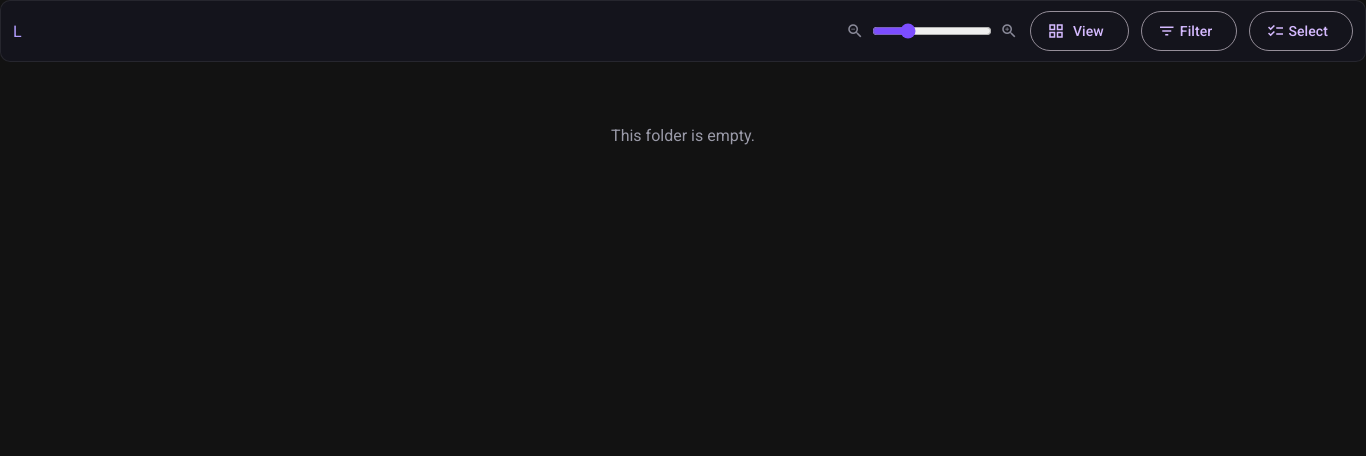
it: LibraryBrowseComponent view menu selected highlight (1.8.1) › the Filter menu highlights the active read-state option (F4 consistency)
What coordinates should you click on to do the following:
click the button with class "filter-toggle"
I would click on:
 (1189, 31)
Its box is [1141,11,1237,51].
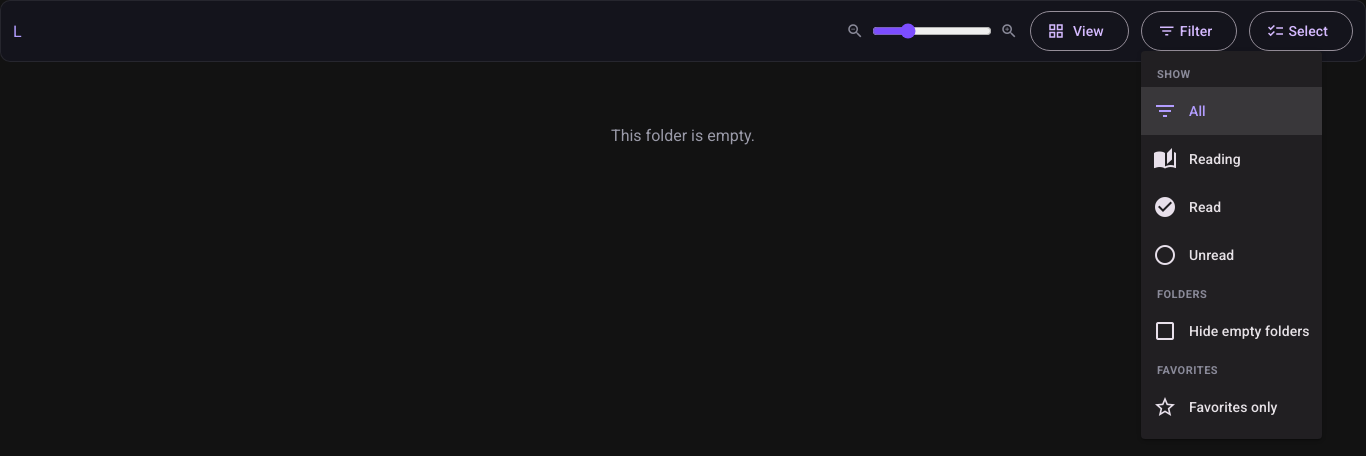
Check: the menu is shown, box [1141,51,1322,439]
Check: the menu item "All" is shown, box [1141,87,1322,135]
Check: the menu item "Unread" is shown, box [1141,231,1322,279]
